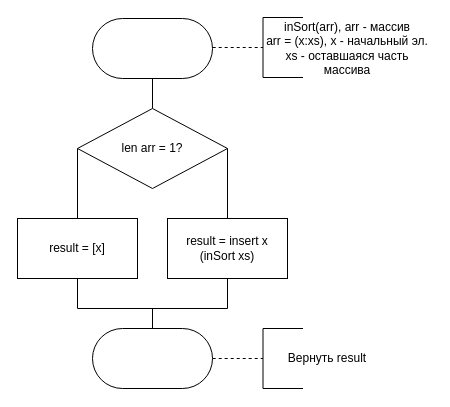
Image size: 450x407. Some labels were removed from this diagram. Each missing label, with the centre of its shape:
"Конец" goes at point 152,358.
"Начало" goes at point 152,48.
